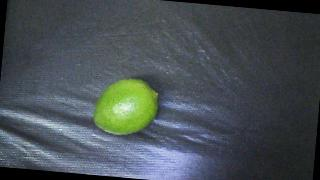LOCAL: (92, 75, 161, 137)
